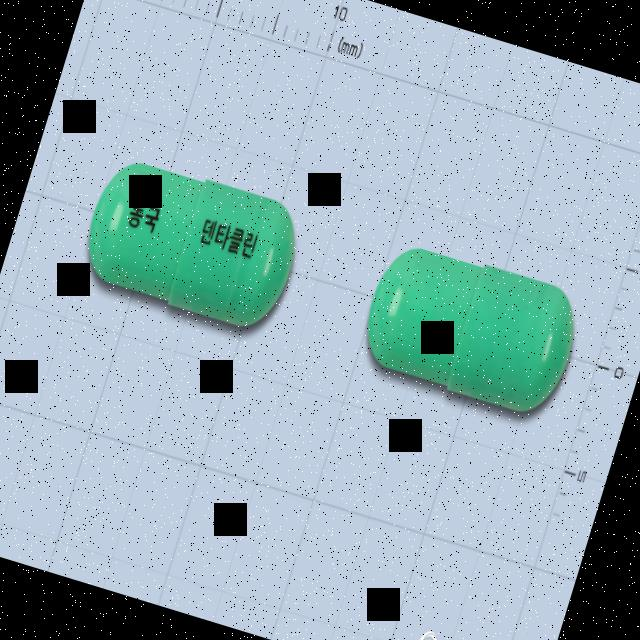Dentacline Cap: (72, 146, 310, 338)
